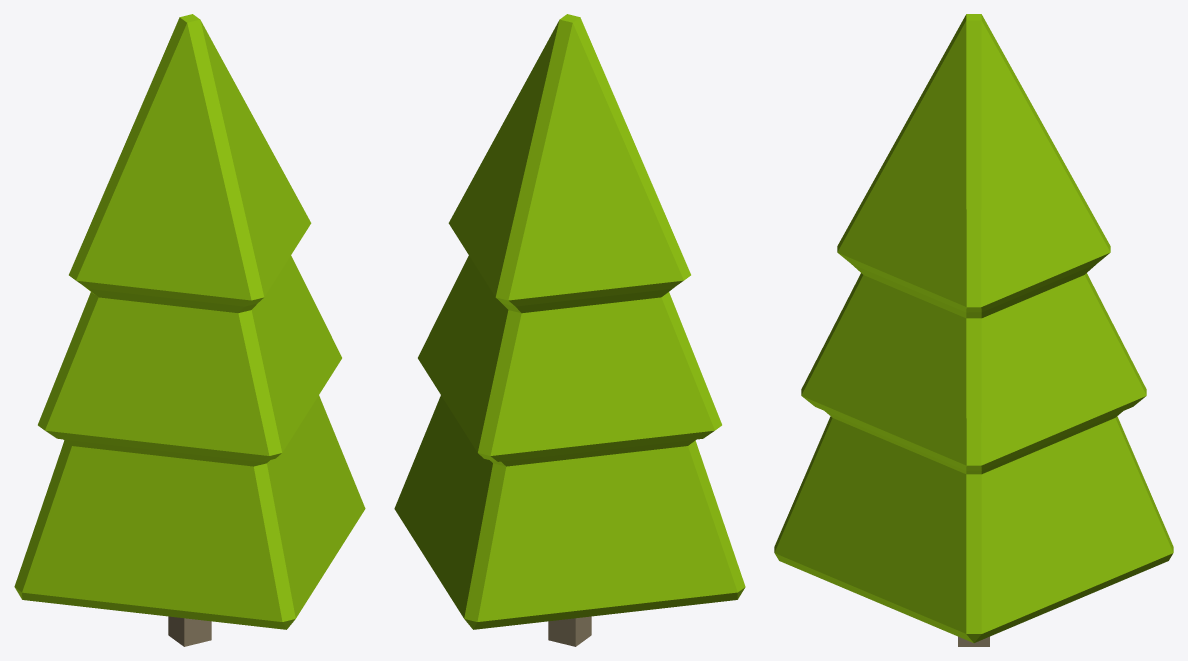
File: pine_9_bevel.fbx
The picture shows the model from 3 angles, left to right: view 1: azimuth 30°, elevation 25°; view 2: azimuth 150°, elevation 25°; view 3: azimuth 270°, elevation 25°; orthographic projection.
Parts seen in each view (by area): view 1: pine_9_bevel; view 2: pine_9_bevel; view 3: pine_9_bevel.
Boxes of the visible parts, <box> form: pine_9_bevel: <box>14,14,365,646</box>; pine_9_bevel: <box>394,14,745,646</box>; pine_9_bevel: <box>774,14,1173,646</box>.
Size of the model in its own units: 152 by 261 by 152.
